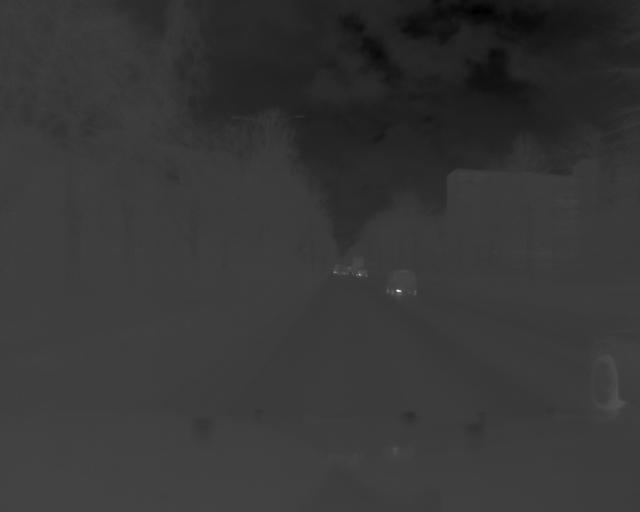car: (586, 310, 640, 410), (383, 267, 420, 299)
